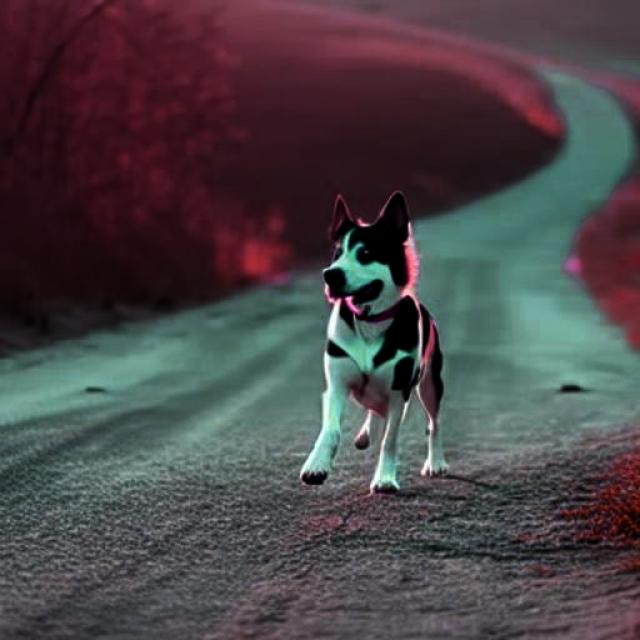Dog: (299, 191, 450, 494)
